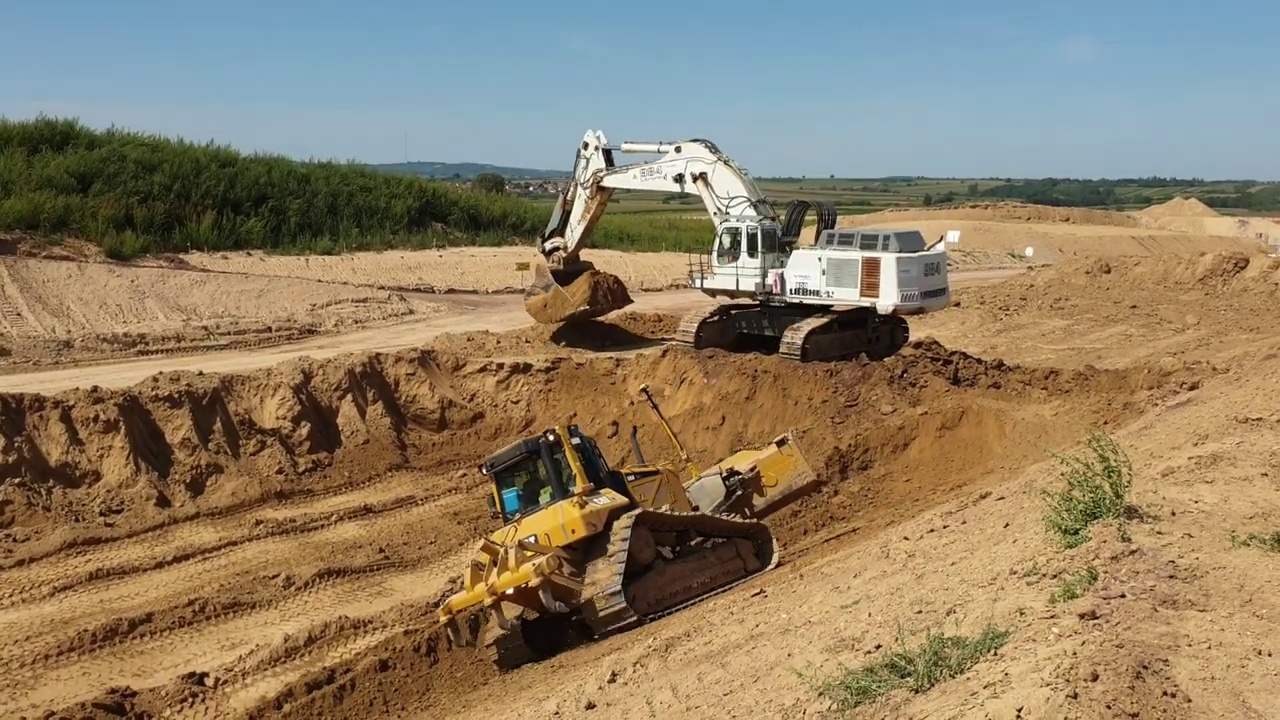bulldozer: (433, 382, 825, 678)
excavator: (519, 121, 959, 367)
